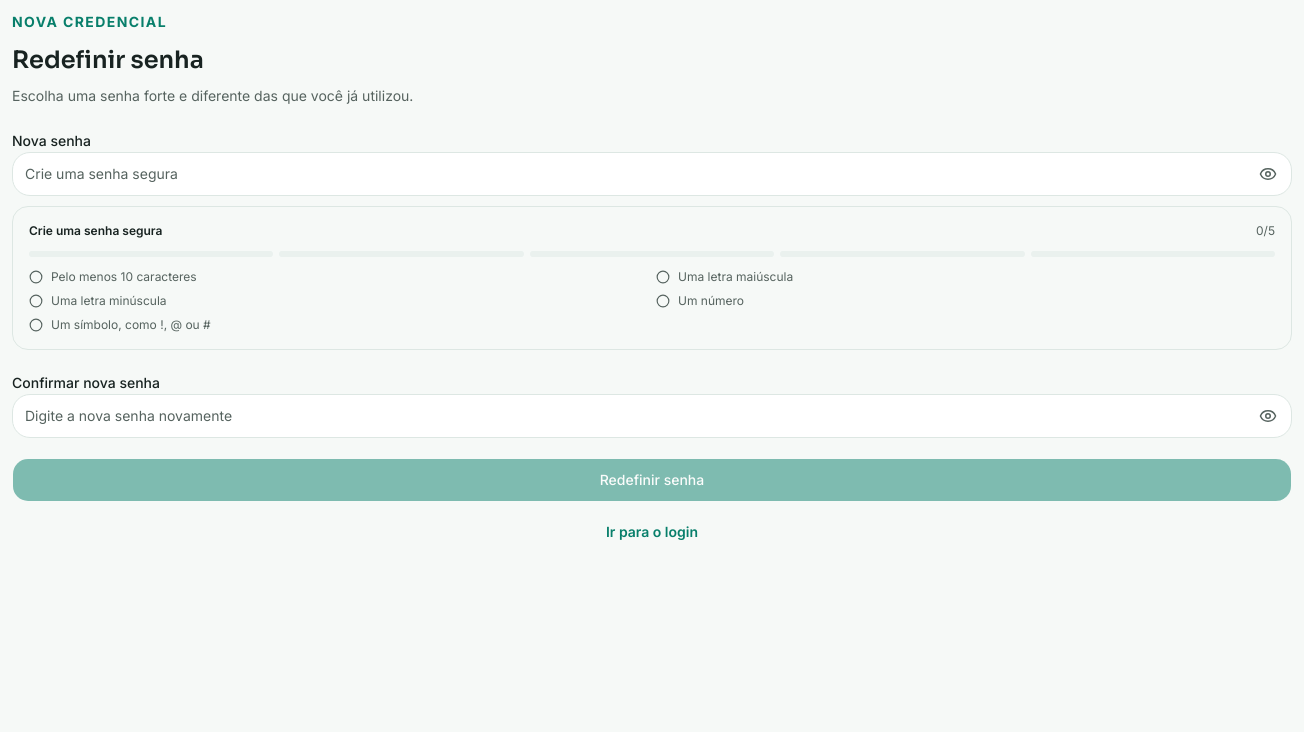
Scenario: password reset › shows requirements, placeholders and visibility controls
Expected: the text "0/5" is shown, [1256,223,1275,239]
Expected: the button "Redefinir senha" is disabled, [12,458,1292,502]
Click the 1st button named "Mostrar senha" at (1268, 174), box [1248,154,1288,194]
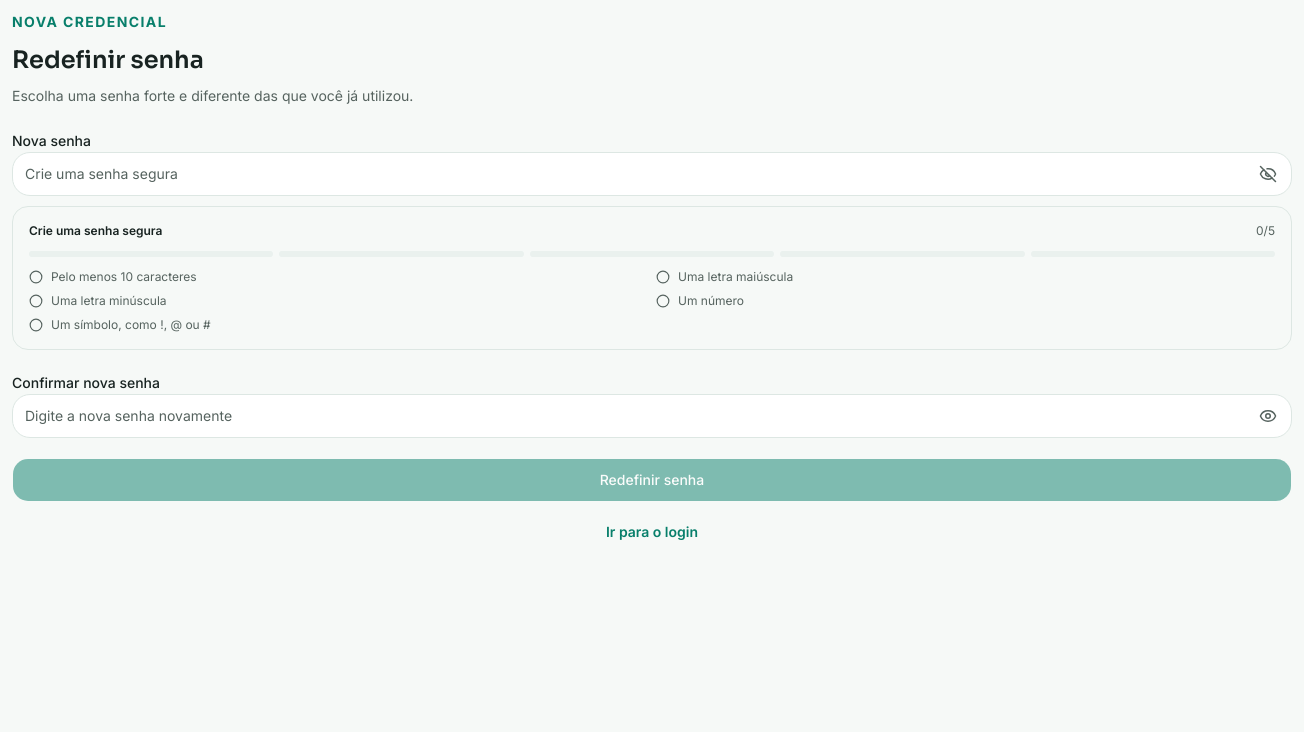
Type "NovaSenha!2026" into the field labelled "Nova senha" at (652, 174), box [12,152,1292,196]
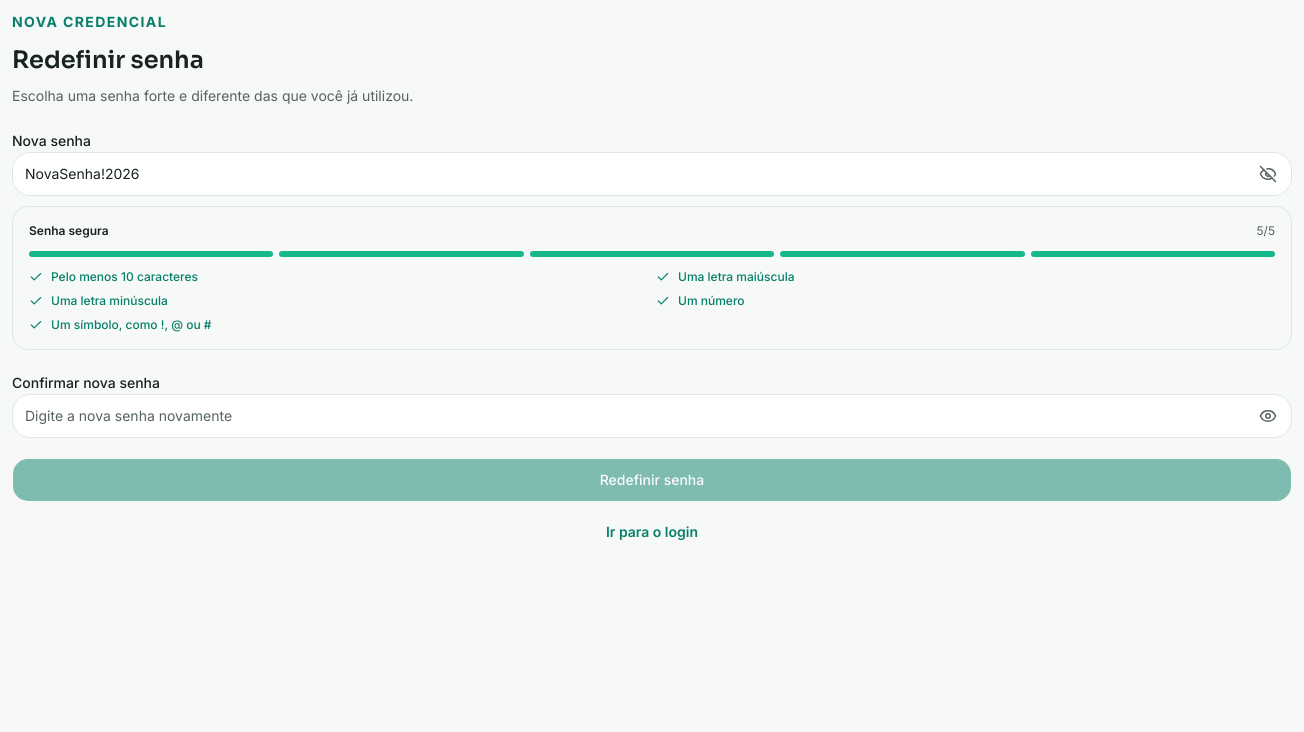
Type "NovaSenha!2026" into the password field labelled "Confirmar nova senha" at (652, 416), box [12,394,1292,438]
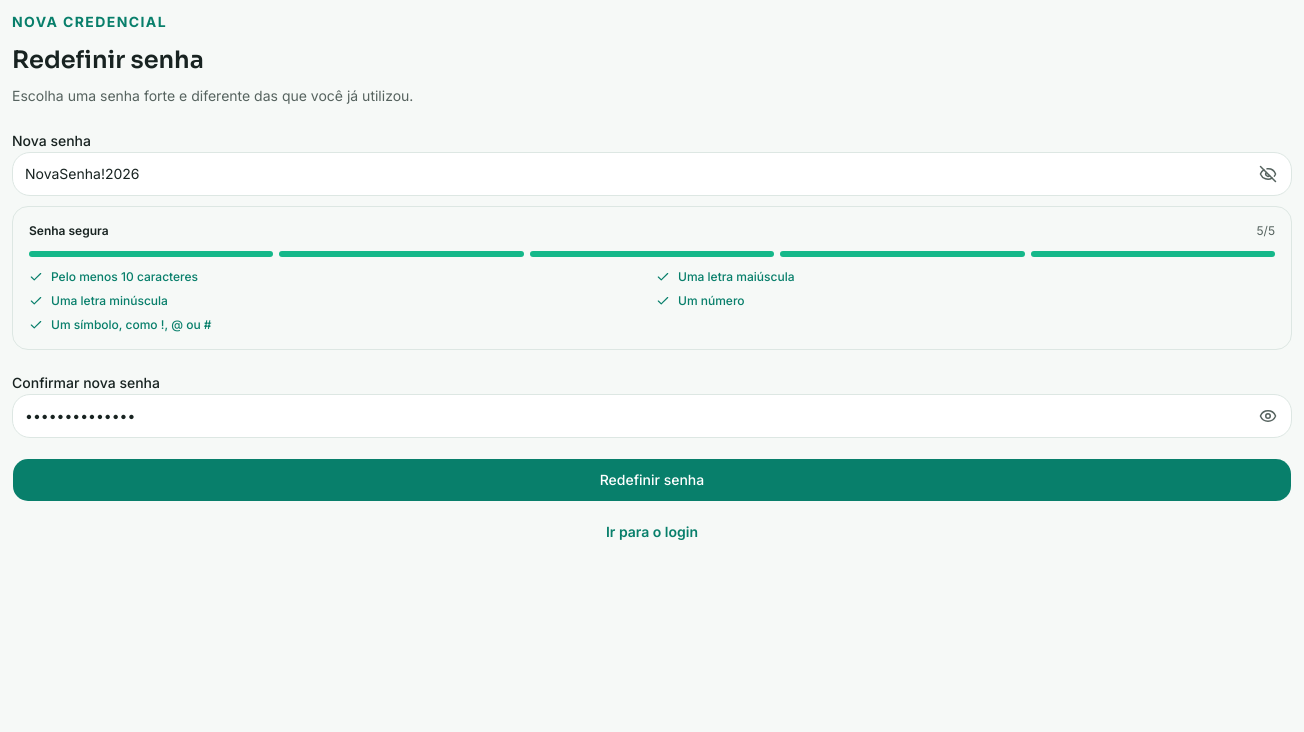
Result: the text "5/5" is shown at [1256,223,1275,239]
Result: the button "Redefinir senha" is enabled at [12,458,1292,502]
